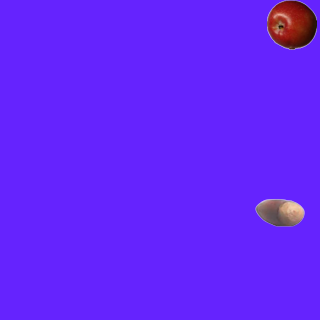Apple Braeburn: (266, 0, 316, 49)
Hazelnut: (254, 187, 304, 237)
